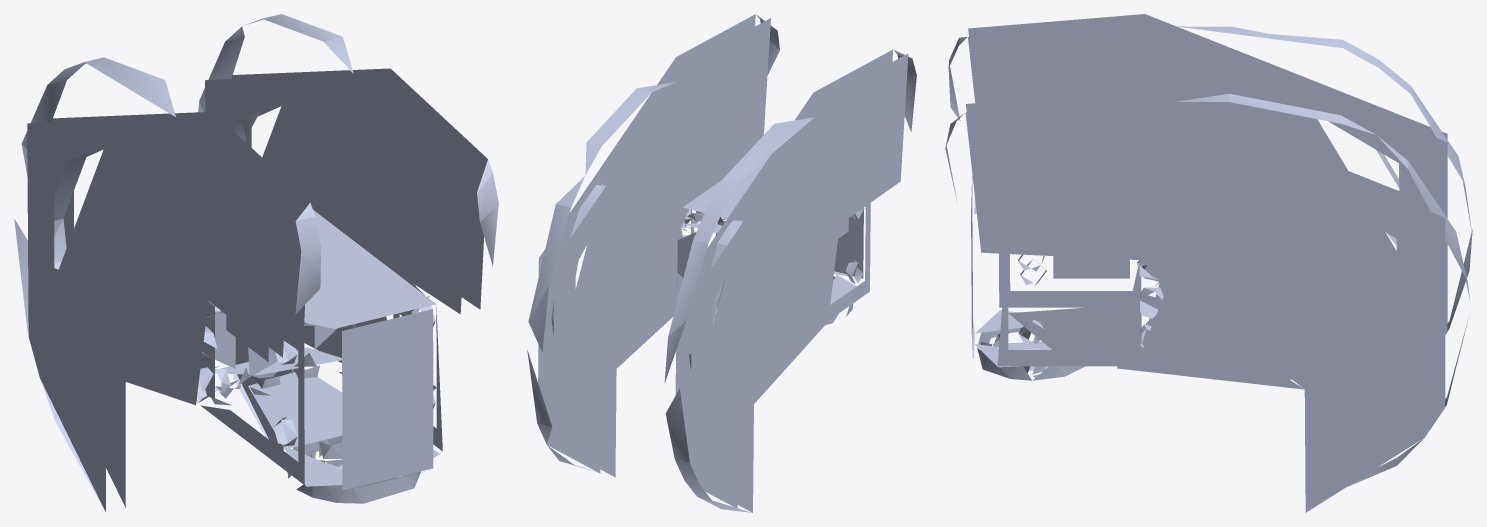
Rendered from part_1_opt.obj.
3 renders of one model, left to right at view 1: azimuth 30°, elevation 25°; view 2: azimuth 150°, elevation 25°; view 3: azimuth 270°, elevation 25°, orthographic. The views are drawn at different scales.
Visible parts, largest first — view 1: ___kepala_metal_Rageshwari_28_9_2____Cut_Extrude6__DC_Shell, Cut_Extrude6_DC_Shell, Imported1_DC_Shell; view 2: ___kepala_metal_Rageshwari_28_9_2____Cut_Extrude6__DC_Shell, Cut_Extrude6_DC_Shell, Imported1_DC_Shell; view 3: Cut_Extrude6_DC_Shell, ___kepala_metal_Rageshwari_28_9_2____Cut_Extrude6__DC_Shell, Imported1_DC_Shell.
Boxes of the visible parts, box(x1,y1,x2,y2) form: ___kepala_metal_Rageshwari_28_9_2____Cut_Extrude6__DC_Shell: box(14, 57, 320, 512); Cut_Extrude6_DC_Shell: box(198, 14, 498, 450); Imported1_DC_Shell: box(200, 210, 442, 503); ___kepala_metal_Rageshwari_28_9_2____Cut_Extrude6__DC_Shell: box(664, 49, 916, 512); Cut_Extrude6_DC_Shell: box(527, 14, 779, 477); Imported1_DC_Shell: box(677, 155, 870, 324); Cut_Extrude6_DC_Shell: box(945, 89, 1469, 512); ___kepala_metal_Rageshwari_28_9_2____Cut_Extrude6__DC_Shell: box(948, 14, 1472, 334); Imported1_DC_Shell: box(971, 175, 1159, 380).
Size of the model in its own units: 31.2 by 68.13 by 78.66.
